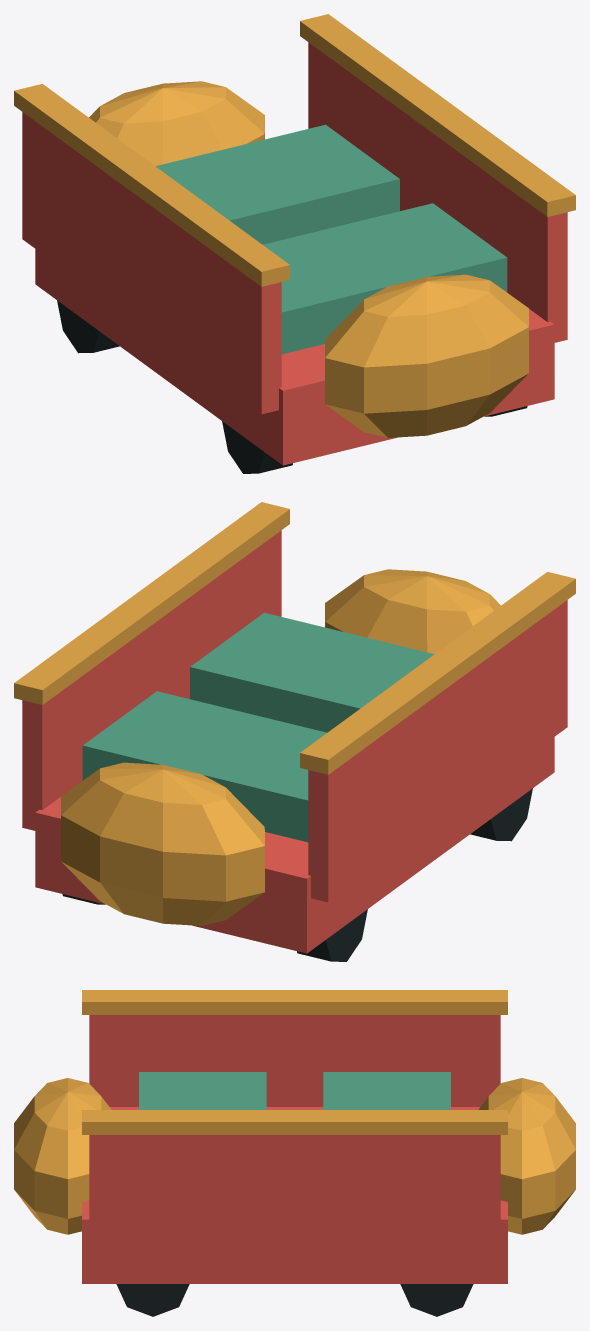
File: ParkParkCoasterCar.obj
3 views of the same model, one above another, from view 1: azimuth 30°, elevation 25°; view 2: azimuth 150°, elevation 25°; view 3: azimuth 270°, elevation 25° (orthographic). The views are drawn at different scales.
Parts seen in each view (by area): view 1: ParkParkCoasterCar; view 2: ParkParkCoasterCar; view 3: ParkParkCoasterCar.
Part boxes in pixels (x1,y1,x2,y2): ParkParkCoasterCar: (14,14,575,473); ParkParkCoasterCar: (14,502,575,961); ParkParkCoasterCar: (14,990,575,1316).
Bounding box in the file's own units: 2.2 × 1.59 × 3.96.
